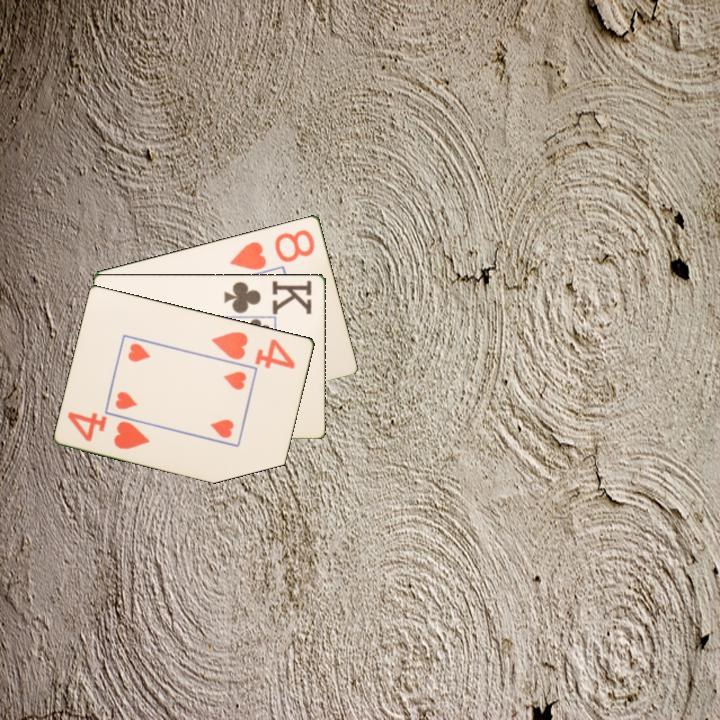4h: (208, 328, 299, 372), (64, 408, 153, 452)
8h: (226, 225, 318, 273)
Kc: (220, 277, 315, 316)
